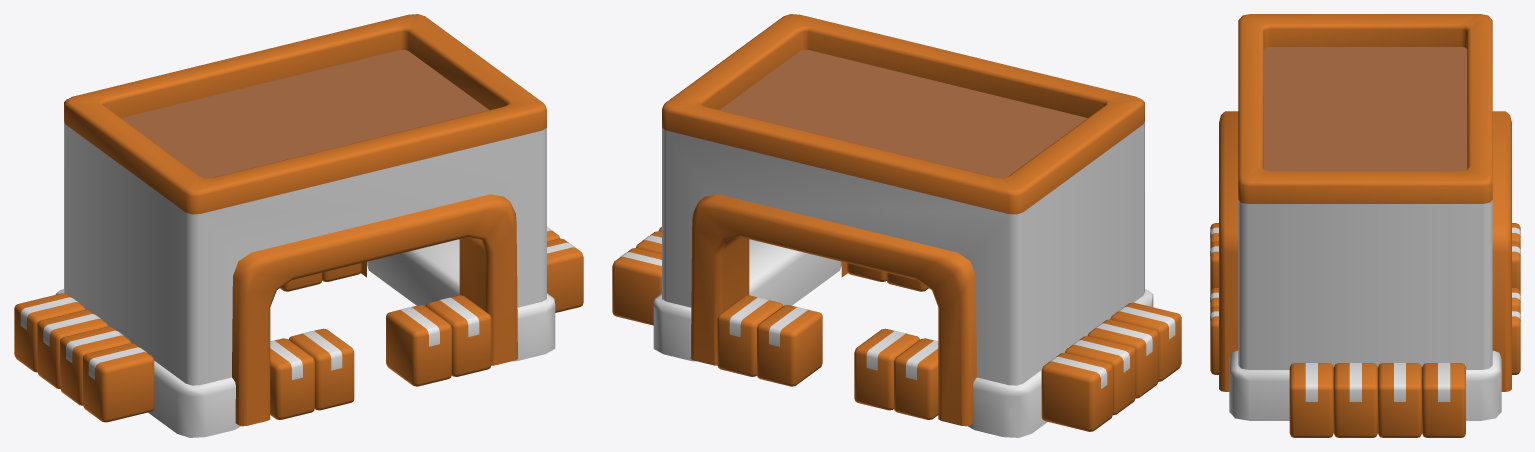
Rendered from Lv1-Factory-Mat.fbx.
3 renders of one model, left to right at view 1: azimuth 30°, elevation 25°; view 2: azimuth 150°, elevation 25°; view 3: azimuth 270°, elevation 25°, orthographic. The views are drawn at different scales.
Parts seen in each view (by area): view 1: Storage; view 2: Storage; view 3: Storage.
Part boxes in pixels (bbox=[...]): Storage: bbox=[14, 14, 583, 437]; Storage: bbox=[612, 14, 1181, 437]; Storage: bbox=[1210, 14, 1520, 437].
Size of the model in its own units: 9.21 by 4.41 by 5.3.
